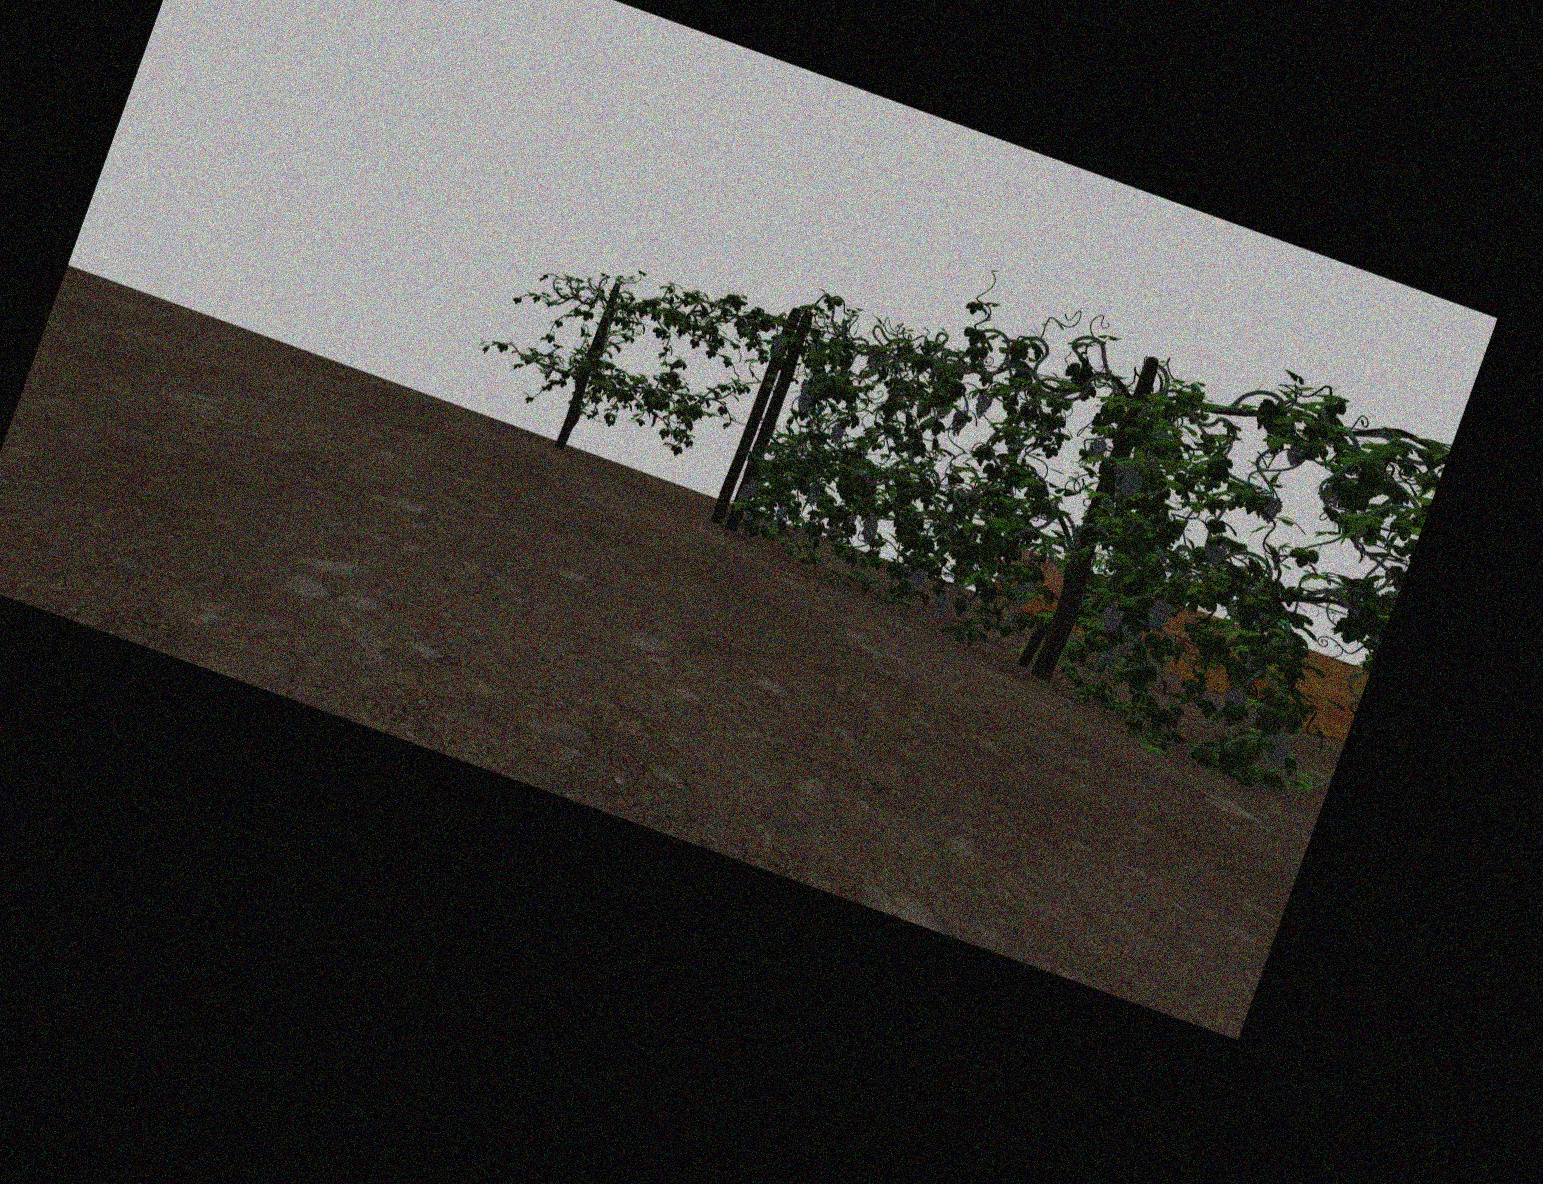grape: (1262, 731, 1288, 770), (1201, 537, 1226, 568), (1148, 599, 1169, 631), (1100, 604, 1122, 636), (1117, 626, 1138, 657), (1260, 494, 1281, 524), (1015, 578, 1036, 607), (1120, 471, 1141, 499), (795, 381, 812, 413), (1087, 438, 1104, 466), (860, 514, 878, 542), (1095, 642, 1113, 669), (974, 391, 991, 418), (1225, 687, 1247, 706), (950, 409, 965, 437), (909, 565, 924, 592), (931, 593, 947, 617), (806, 484, 821, 505), (829, 422, 843, 444), (773, 333, 786, 356), (827, 524, 841, 539), (746, 478, 758, 494), (737, 488, 750, 502), (775, 506, 786, 522)
